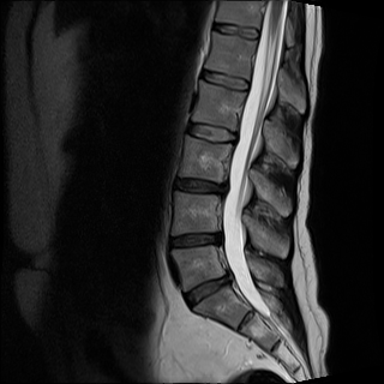Lumbar Disc Bulge (LDB): (180, 262, 236, 312), (165, 226, 227, 253), (171, 176, 234, 197)
Normal IVD: (184, 115, 239, 148), (197, 65, 252, 96), (209, 20, 260, 42)
Spinal Stenosis (SS): (206, 171, 242, 205), (215, 258, 239, 295)
